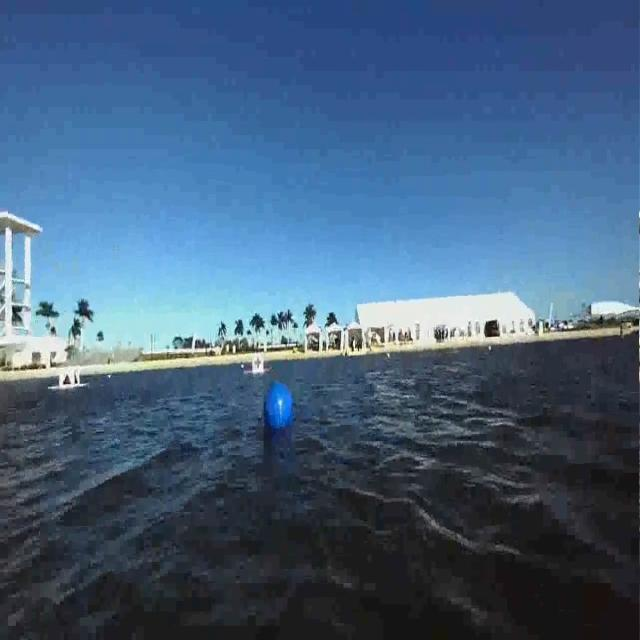blue-buoy: (263, 381, 296, 438)
